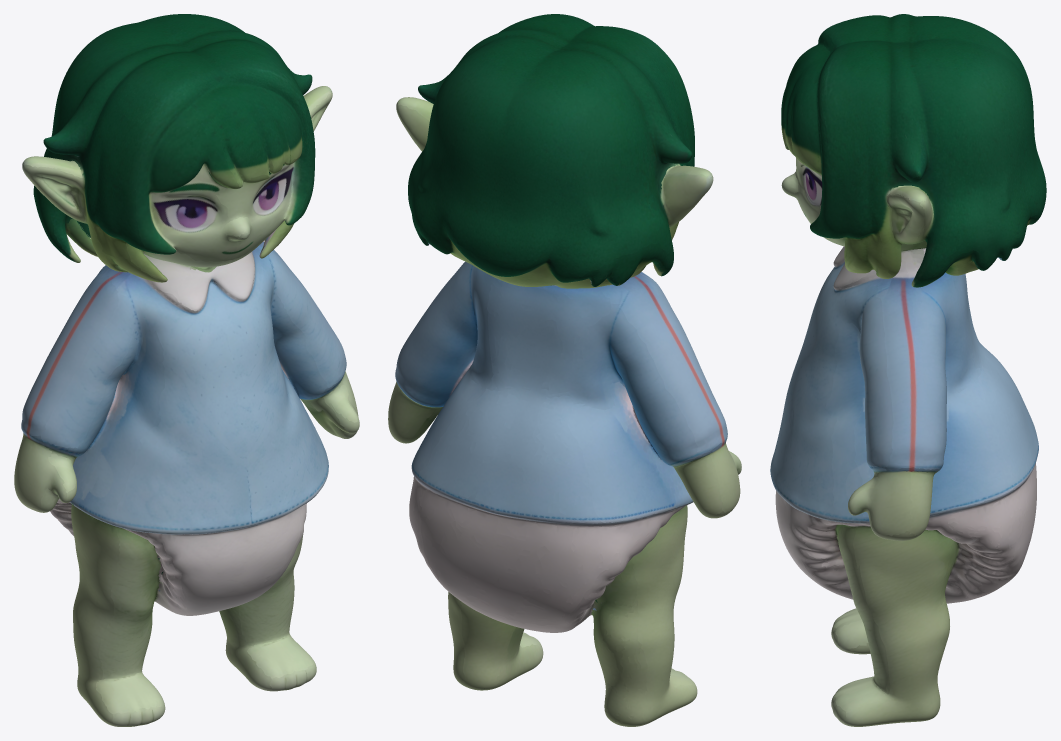
The model's file is flowerdiaperdoll.glb.
The picture shows the model from 3 angles, left to right: view 1: azimuth 30°, elevation 25°; view 2: azimuth 150°, elevation 25°; view 3: azimuth 270°, elevation 25°; orthographic projection. The views are drawn at different scales.
Parts seen in each view (by area): view 1: temp_mesh.ply; view 2: temp_mesh.ply; view 3: temp_mesh.ply.
Boxes of the visible parts, x1,y1,x2,y2 form: temp_mesh.ply: (14,14,359,726); temp_mesh.ply: (388,14,741,726); temp_mesh.ply: (770,14,1046,726).
Size of the model in its own units: 1.07 by 1.98 by 0.7674.
1 material, 1 textured.
